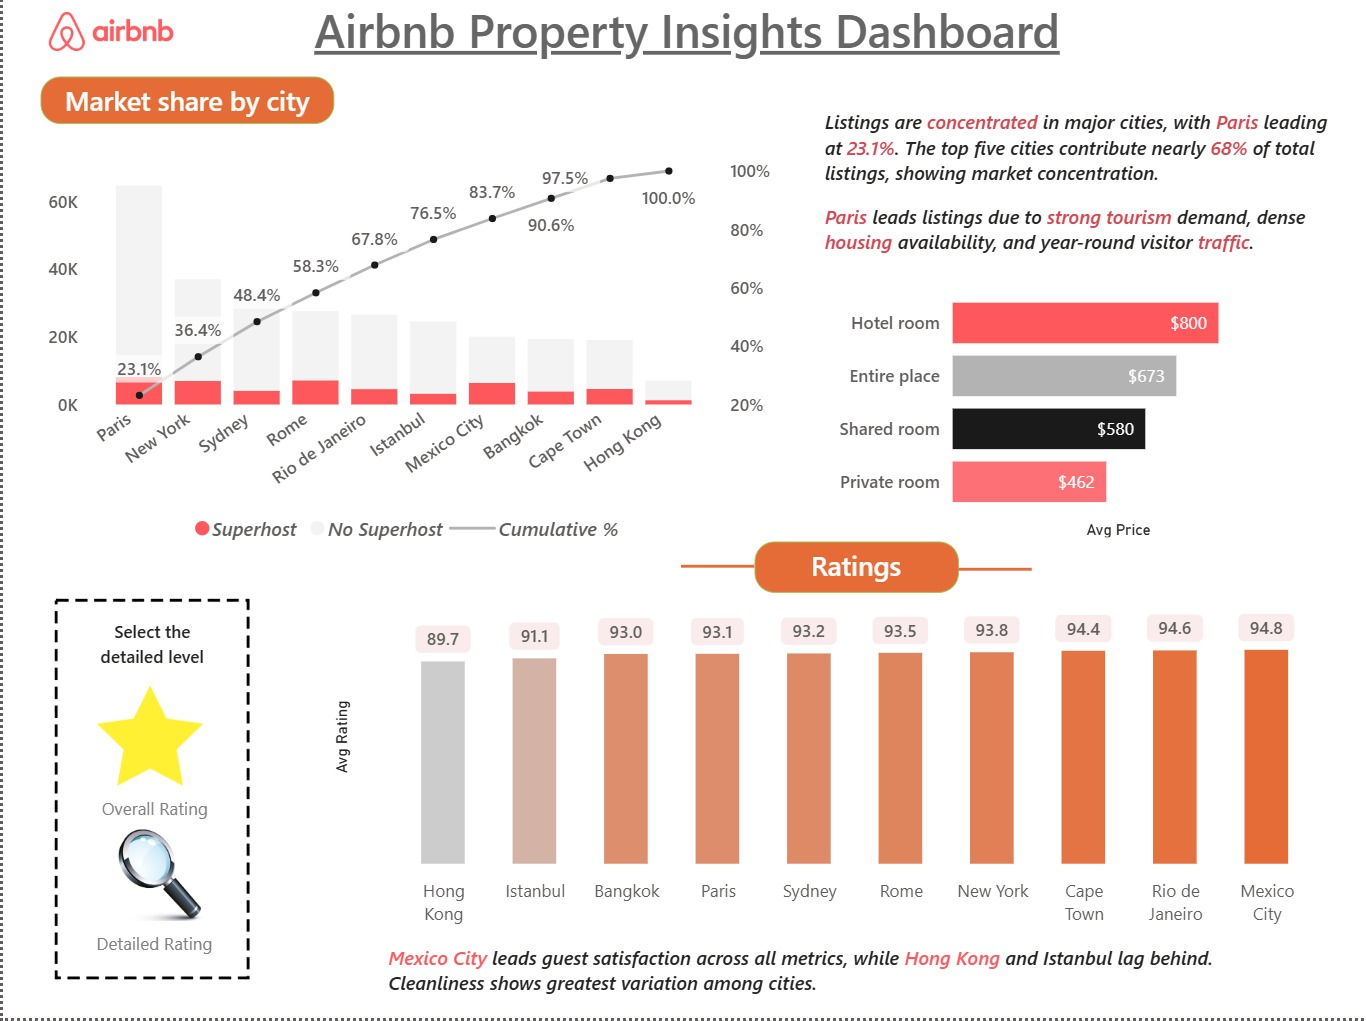

The dashboard page shown, as its layout file describes it:
{"tool":"powerbi","page":{"name":"Ratings","canvas":[960,720],"ordinal":2},"visuals":[{"type":"textbox","box":[201.3,0,557.4,83.1],"z":0},{"type":"image","box":[22.1,14.7,107.3,27.3],"z":1000},{"type":"textbox","box":[26.3,59.9,206.1,33.7],"z":2000},{"type":"lineStackedColumnComboChart","fields":{"Category":["Listings.city"],"Y":["Listings.Superhost Listings","Listings.No Superhost Listings"],"Y2":["Listings.Cumulative %"]},"box":[26.3,109.6,517.2,286.5],"z":3000},{"type":"textbox","box":[571,76.8,374.4,66.3],"z":4000},{"type":"barChart","fields":{"Category":["Listings.room_type"],"Y":["Listings.Avg Price"]},"box":[579.4,190.3,323.9,197.7],"z":5000},{"type":"textbox","box":[571,143,366,68.4],"z":6000},{"type":"textbox","box":[526.4,385.5,143,35.8],"z":7000,"group":"g3"},{"type":"image","box":[0,398.6,209.3,321.8],"z":7000},{"type":"shape","box":[475.3,305,51.5,196.7],"z":8000,"group":"g3"},{"type":"textbox","box":[57.8,433.3,93.6,50.5],"z":8000},{"type":"image","box":[36.8,482.7,132.5,78.9],"z":8000,"group":"g1"},{"type":"shape","box":[669.9,307.1,51.5,196.7],"z":9000,"group":"g3"},{"type":"pivotTable","fields":{"Rows":["Listings.city"],"Values":["Listings.Accuracy","Listings.Cleanliness","Listings.Communicaation","Listings.Location","Listings.Value"]},"box":[242.9,433.3,673,229.3],"z":9000},{"type":"group","id":"g1","title":"Group 3","box":[36.8,482.7,132.5,105.2],"z":10000},{"type":"image","box":[58.6,587.5,101,67.3],"z":10000,"group":"g2"},{"type":"columnChart","fields":{"Category":["Listings.city"],"Y":["Listings.Avg Rating"]},"box":[227.2,419.6,705.6,242.9],"z":11000},{"type":"group","id":"g2","title":"Group 4","box":[55.4,587.5,104.1,99.9],"z":12000},{"type":"textbox","box":[55.4,651.6,101,35.8],"z":13000,"group":"g2"},{"type":"textbox","box":[265,662.5,651,50.5],"z":13000},{"type":"textbox","box":[63.7,557.8,94,30],"z":13001,"group":"g1"},{"type":"group","id":"g3","title":"Group 1","box":[475.3,305,246.1,198.8],"z":14000}]}

Visuals, with their boxes in screenshot pixels (x1, y1, x2, y2), scaled from the page's 960x720 canvas onto the 1366x1021 screenshot:
textbox: detection(286, 0, 1080, 118)
image: detection(31, 21, 184, 60)
textbox: detection(37, 85, 331, 133)
lineStackedColumnComboChart - Listings.city x Listings.Superhost Listings: detection(37, 155, 773, 562)
textbox: detection(812, 109, 1345, 203)
barChart - Listings.room_type x Listings.Avg Price: detection(824, 270, 1285, 550)
textbox: detection(812, 203, 1333, 300)
textbox: detection(749, 547, 953, 597)
image: detection(0, 565, 298, 1020)
shape: detection(676, 433, 750, 711)
textbox: detection(82, 614, 215, 686)
image: detection(52, 684, 241, 796)
shape: detection(953, 435, 1026, 714)
pivotTable - Listings.city x Listings.Accuracy: detection(346, 614, 1303, 940)
"Group 3" group: detection(52, 684, 241, 834)
image: detection(83, 833, 227, 929)
columnChart - Listings.city x Listings.Avg Rating: detection(323, 595, 1327, 939)
"Group 4" group: detection(79, 833, 227, 975)
textbox: detection(79, 924, 223, 975)
textbox: detection(377, 939, 1303, 1011)
textbox: detection(91, 791, 224, 834)
"Group 1" group: detection(676, 433, 1026, 714)
